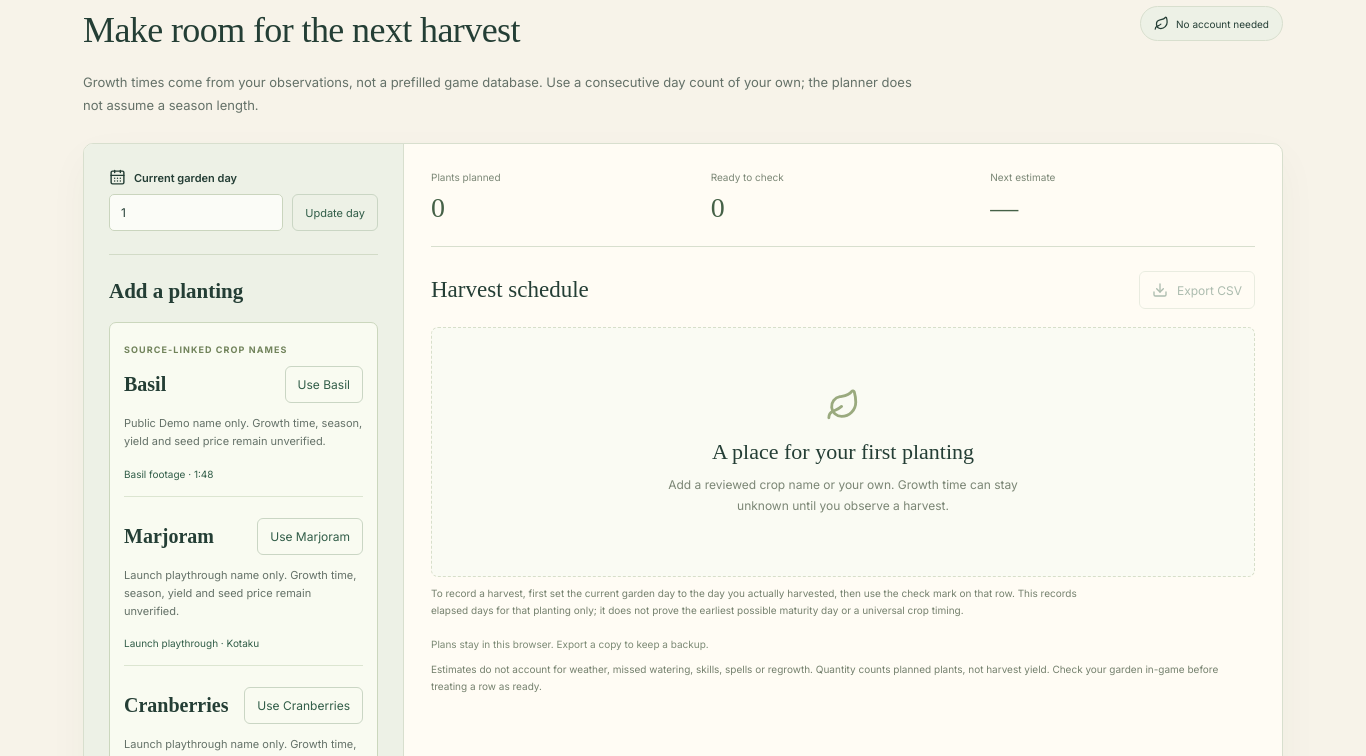
Test: Glimmerwick garden tool › starts Basil from reviewed footage without filling unverified growth values
(page scrolled)
Click the button "Use Basil": (324, 385) [285,366,363,403]
(page scrolled)
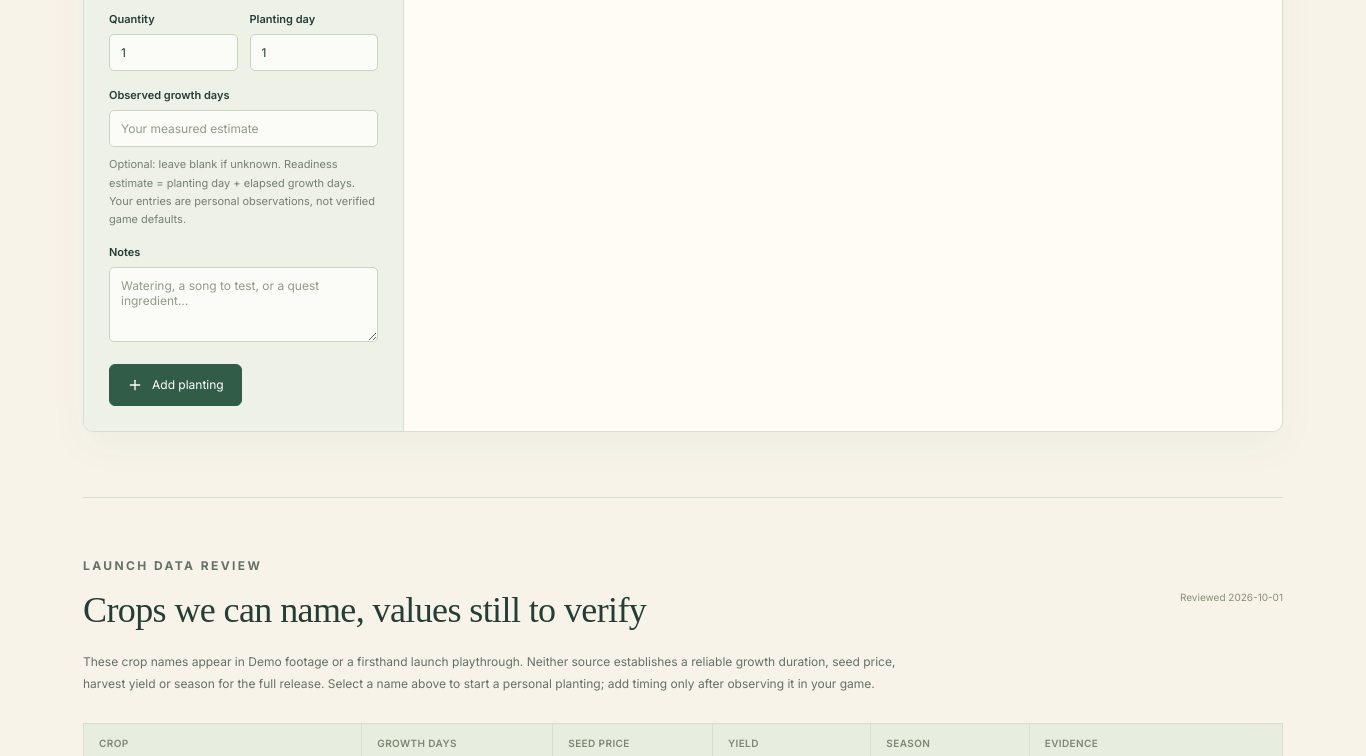
Expected: the number field labelled "Observed growth days" is empty, [109,110,378,147]
Click the button "Add planting": (175, 385) [109,364,242,406]
(page scrolled)
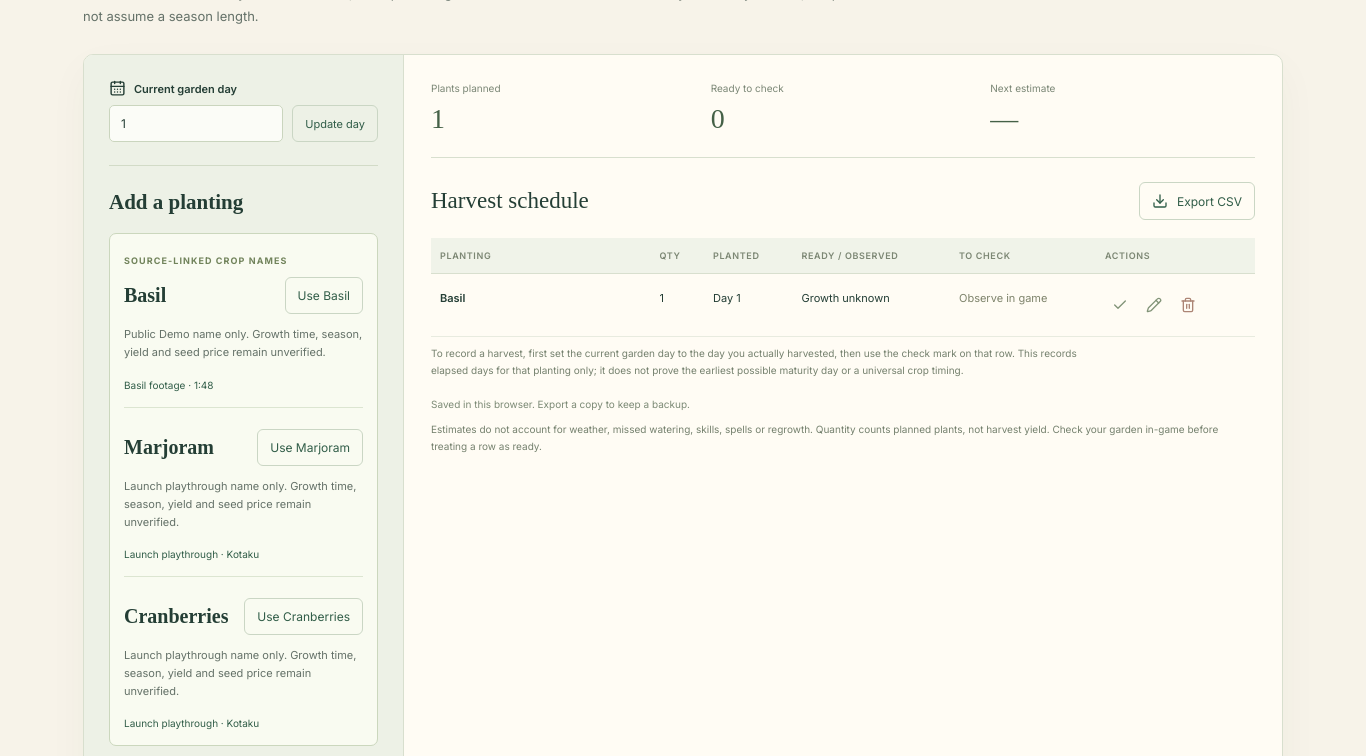
Expected: the table "Your harvest schedule" does not show "Ready to check"
Now the text "Basil" in the row of "Growth unknown" is shown, box [440,291,465,305]
Now the table named "Your harvest schedule" shows "Growth unknown", box [802,291,890,305]
